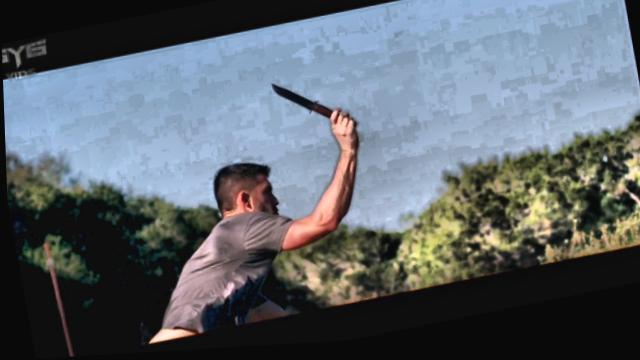knife: (263, 64, 360, 153)
